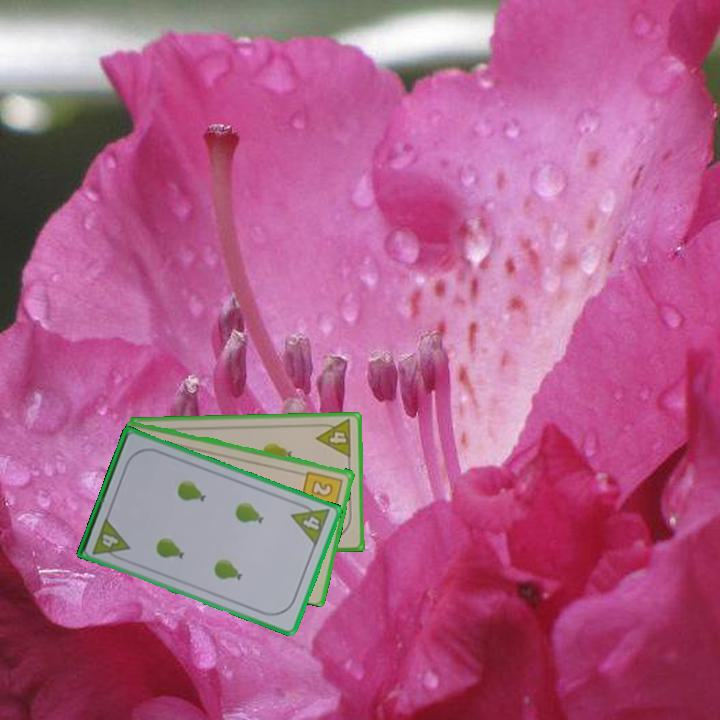2b: (298, 467, 346, 516)
4p: (288, 498, 332, 549), (89, 514, 132, 564), (313, 416, 354, 460)
